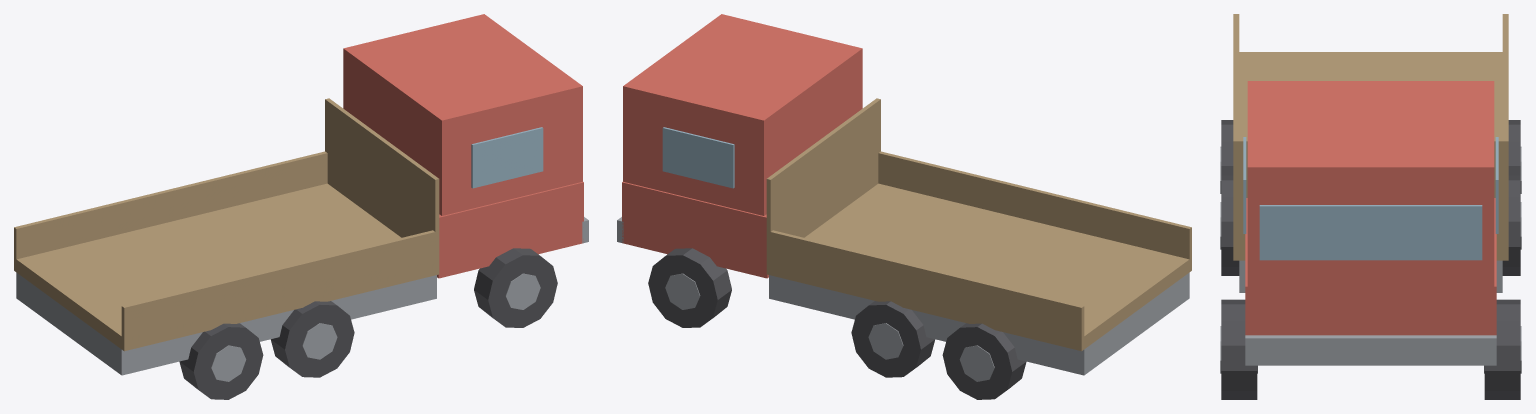
The model's file is dm_flatbedtruck.glb.
The picture shows the model from 3 angles, left to right: view 1: azimuth 30°, elevation 25°; view 2: azimuth 150°, elevation 25°; view 3: azimuth 270°, elevation 25°; orthographic projection. The views are drawn at different scales.
Parts seen in each view (by area): view 1: TruckFlatbed; view 2: TruckFlatbed; view 3: TruckFlatbed.
Part boxes in pixels (box(x1,y1,x2,y2)): TruckFlatbed: box(14, 14, 588, 399); TruckFlatbed: box(617, 14, 1191, 399); TruckFlatbed: box(1220, 14, 1521, 399).
Size of the model in its own units: 5.66 by 2.5 by 2.52.
